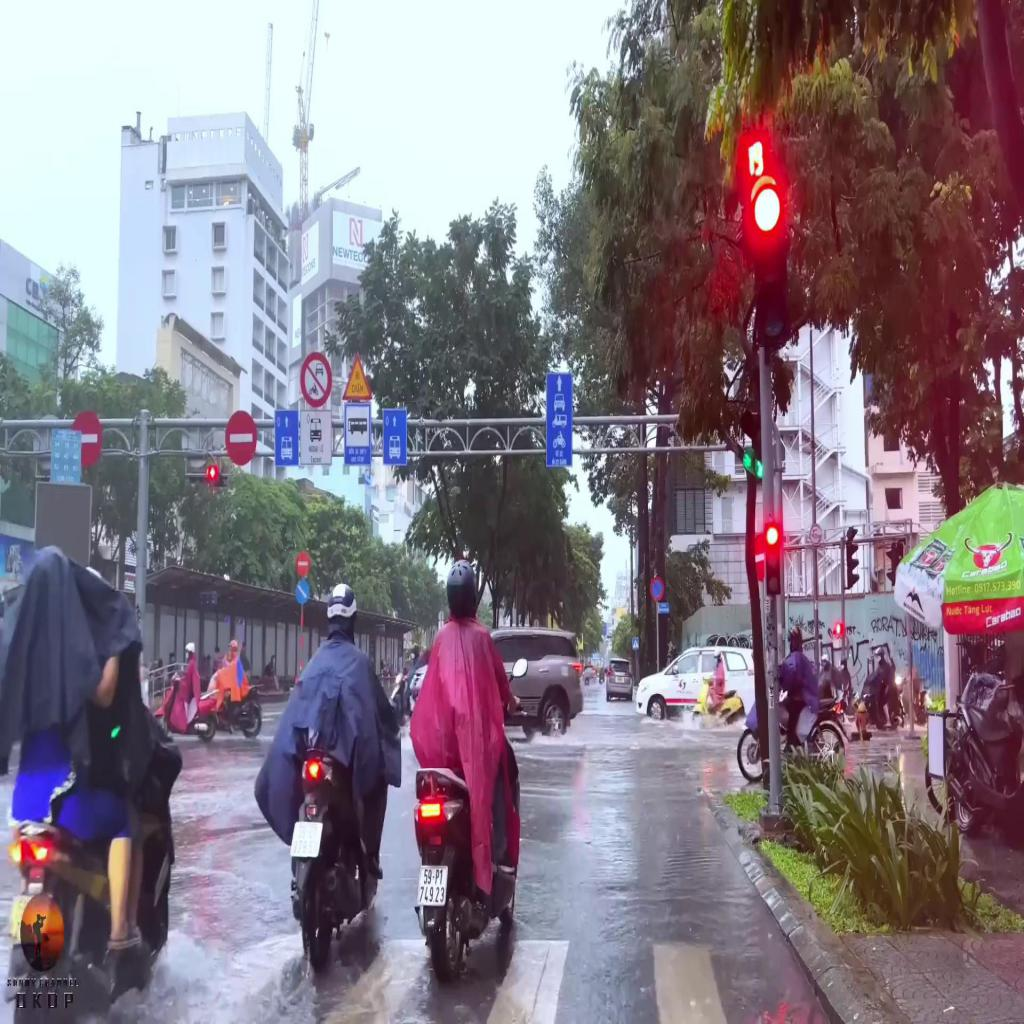cam_do_xe: (650, 574, 664, 603)
cam_xe_di_nguoc_chieu: (225, 408, 259, 466), (71, 410, 103, 468), (296, 550, 312, 575)
di_cham: (340, 350, 374, 402)
huong_phai_di_vuot_chuong_ngai_vat_phai: (296, 578, 310, 604)
khac: (546, 370, 572, 468), (343, 401, 372, 469), (300, 408, 332, 466), (301, 351, 333, 408), (274, 408, 300, 466), (382, 410, 407, 468)
